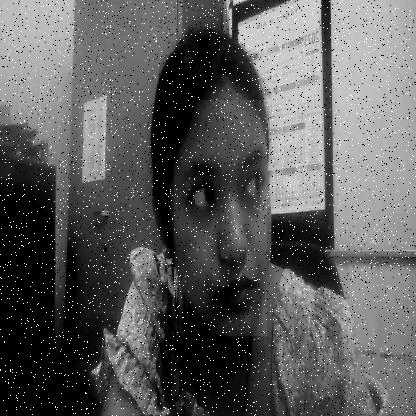Distracted: (174, 100, 267, 336)
